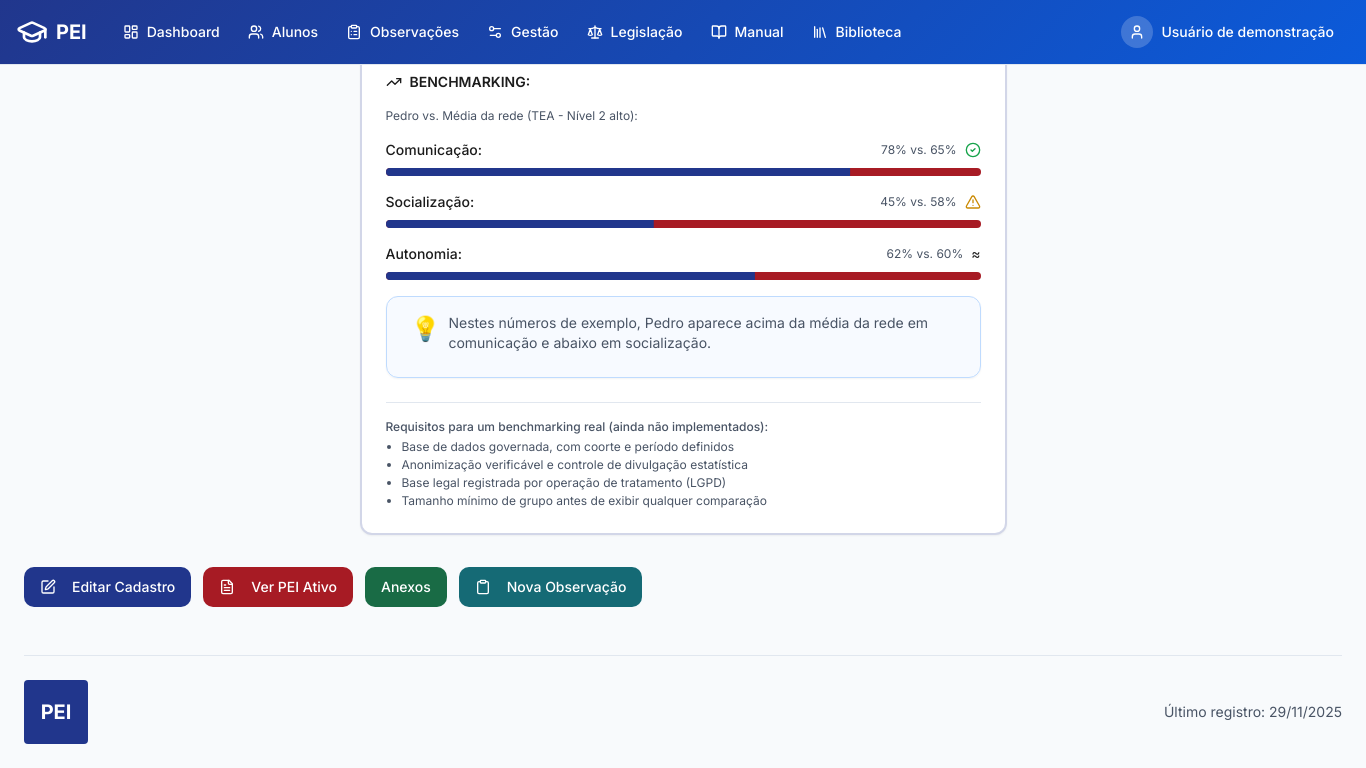
Test: Ver PEI: o plano é do estudante aberto › estudante sem plano vigente recebe "Sem PEI vigente" — não 0%, não o plano de outro
(page scrolled)
What coordinates should you click on to do the following:
click the button "Ver PEI Ativo"
I would click on:
 (278, 587)
Its box is [203,567,353,607].
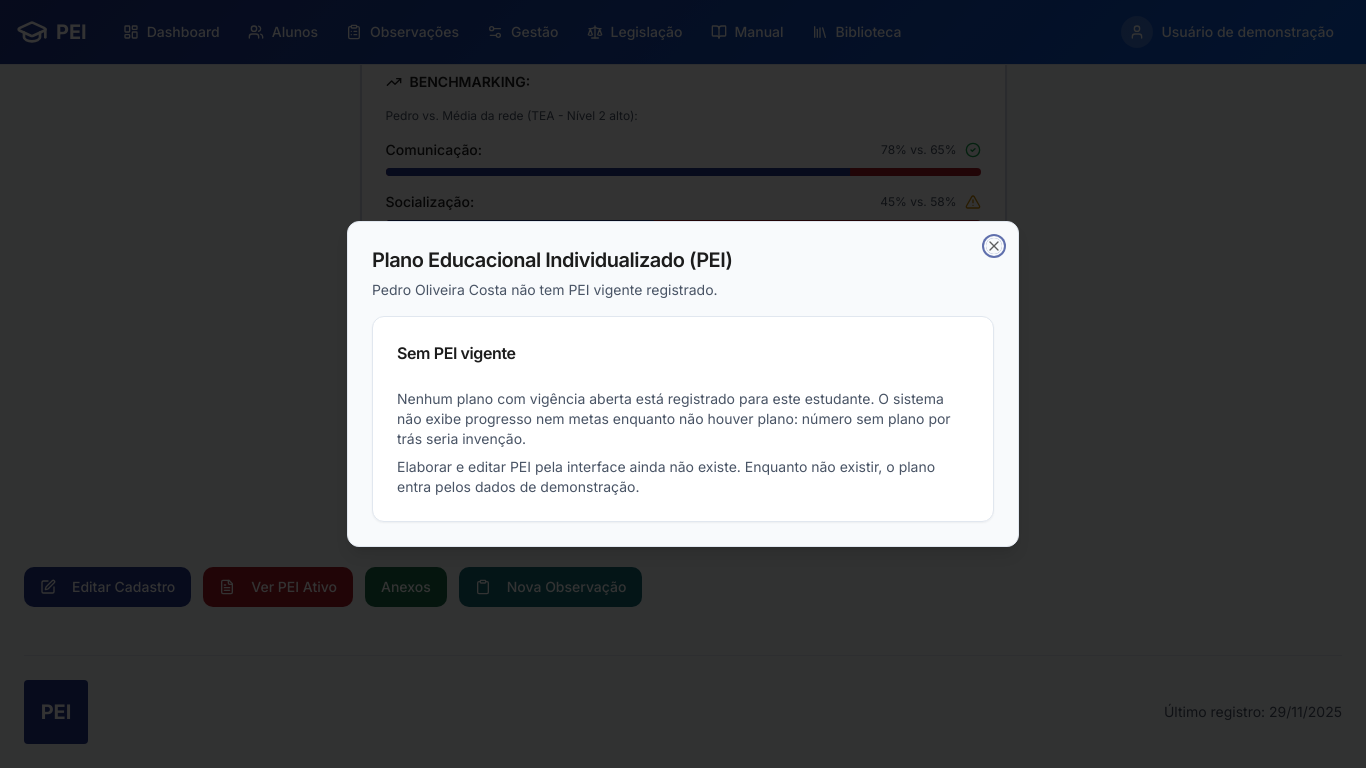
expect the heading "Sem PEI vigente" is shown: met, box [397,343,516,363]
expect the text "Pedro Oliveira Costa não tem PEI vigente registrado." is shown: met, box [372,281,718,298]
